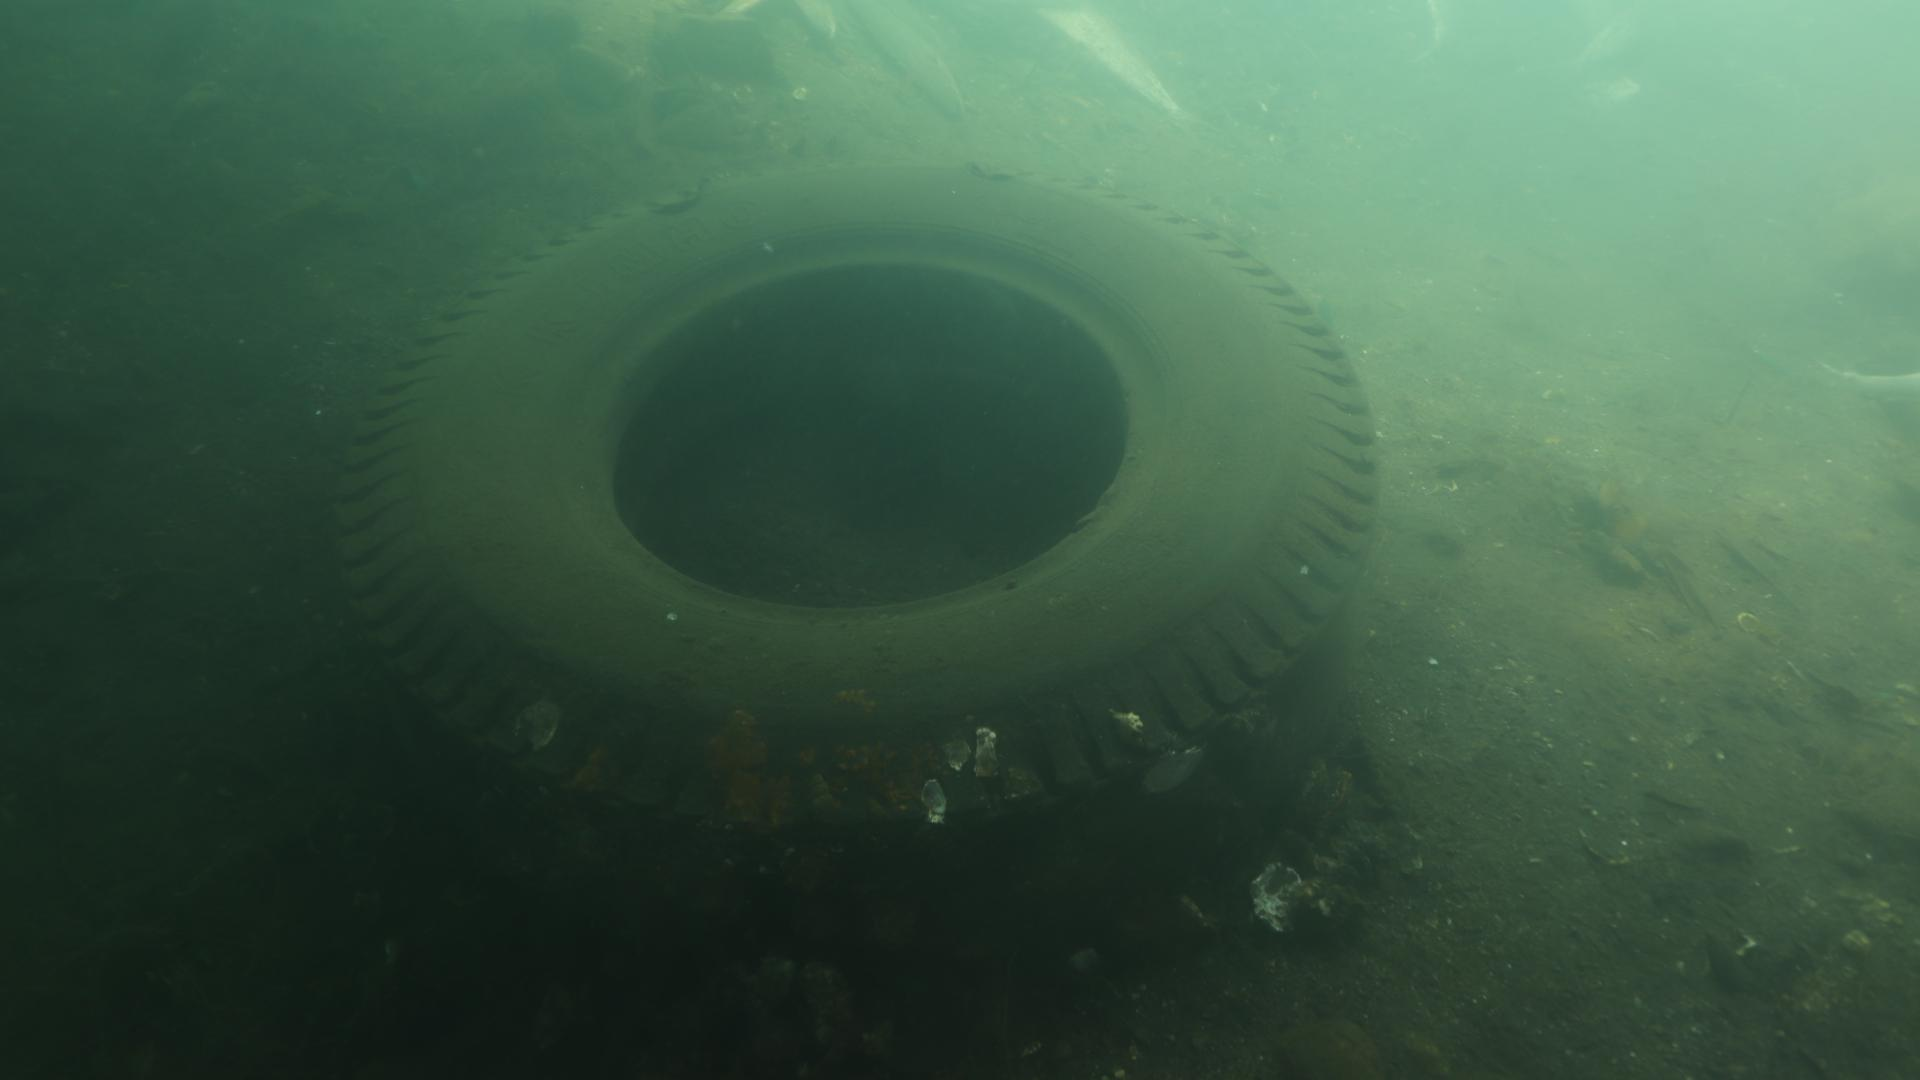tire: (334, 154, 1381, 915)
